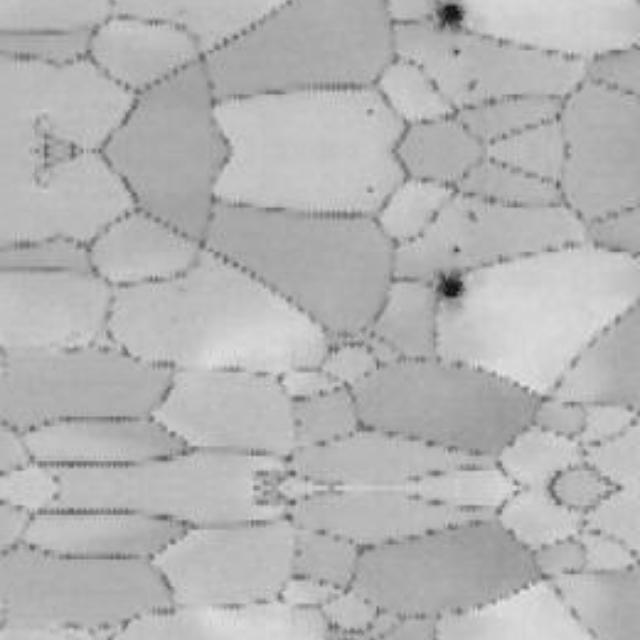good_void: (429, 275, 465, 307), (429, 0, 465, 29), (463, 210, 477, 226), (463, 78, 477, 94), (450, 243, 465, 257), (450, 47, 465, 61), (363, 186, 374, 197), (363, 107, 374, 118)
